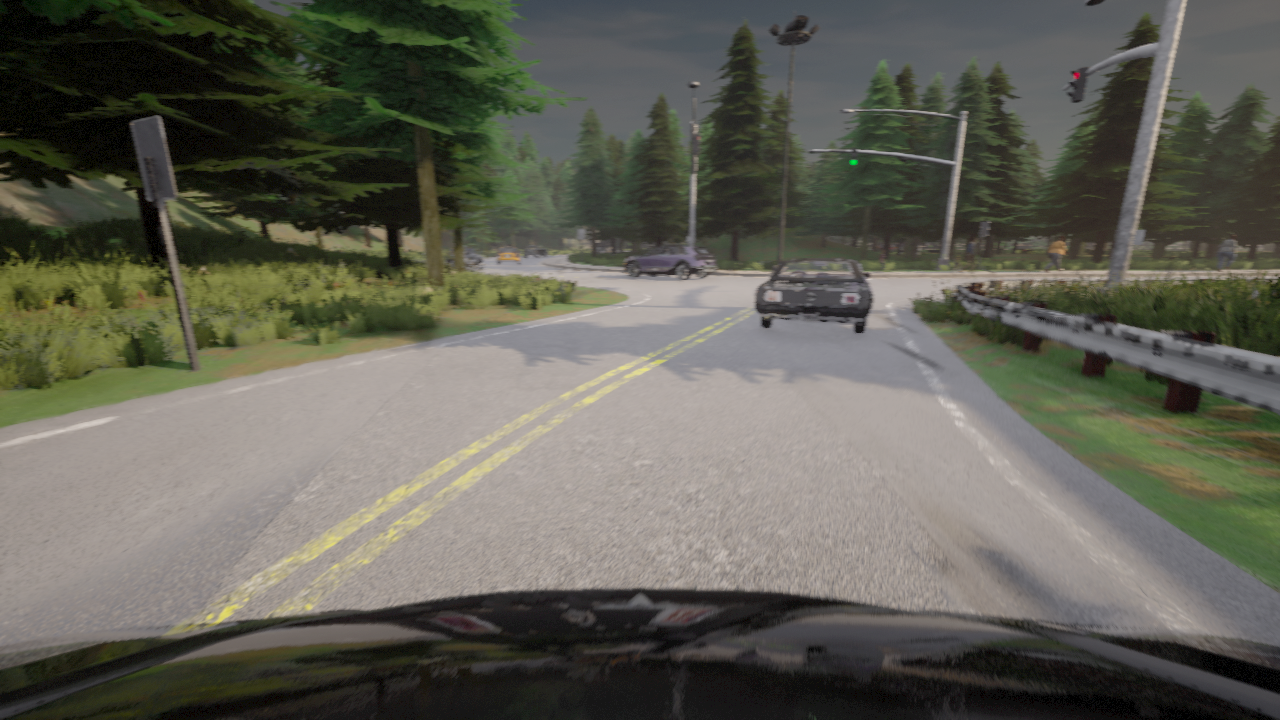cyclist: (0, 588, 1279, 719), (754, 258, 872, 333), (624, 244, 717, 280), (446, 246, 484, 270), (496, 245, 520, 265), (524, 244, 548, 258), (596, 242, 616, 252), (877, 243, 896, 249)
pedestrian: (1044, 236, 1067, 272), (1217, 234, 1236, 271), (960, 237, 976, 272), (952, 251, 961, 272), (877, 250, 885, 272)
